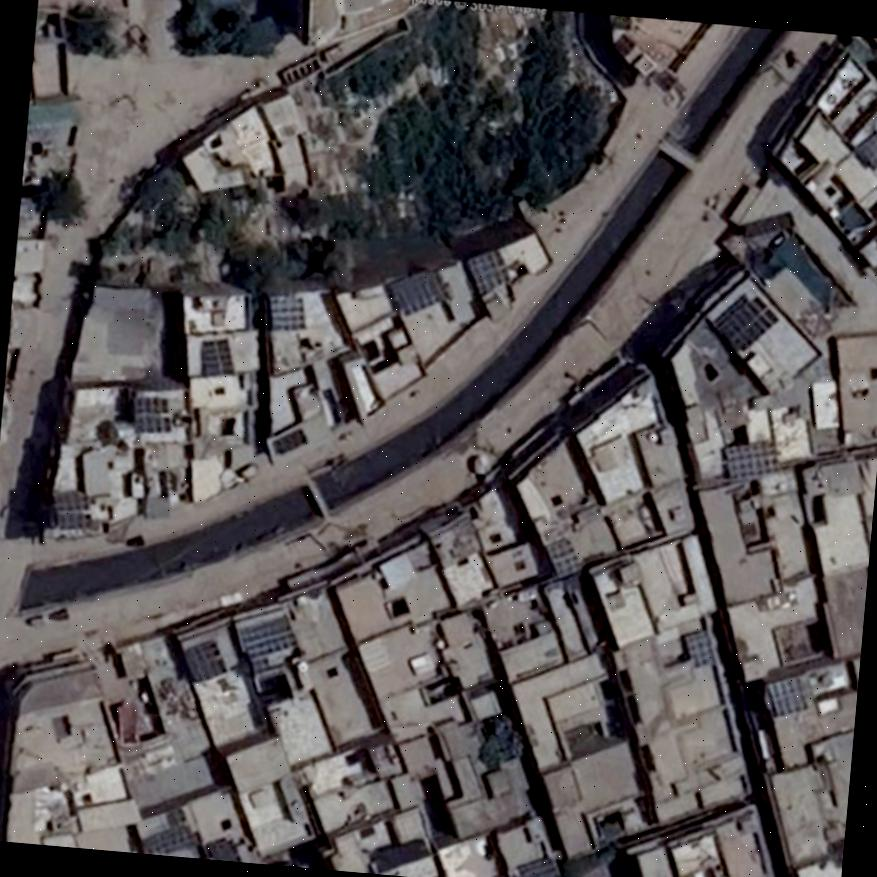Solarpanel: (712, 289, 776, 351), (386, 269, 444, 316), (236, 617, 297, 657), (723, 441, 778, 480), (183, 640, 226, 681), (466, 251, 504, 292), (142, 825, 195, 853), (132, 399, 172, 435), (769, 676, 806, 713), (53, 490, 87, 529), (547, 535, 579, 574), (201, 338, 231, 379), (683, 629, 715, 666), (268, 299, 305, 329), (512, 855, 560, 877), (854, 129, 877, 170), (271, 428, 305, 454)
